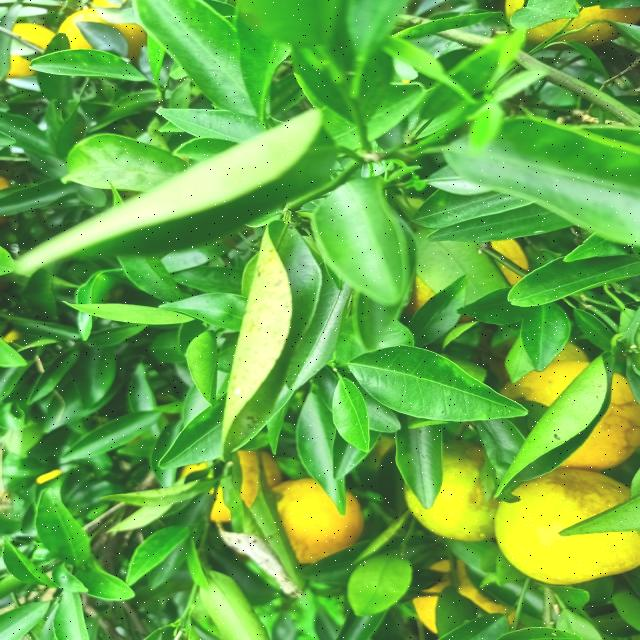healthy: (487, 137, 640, 222), (171, 2, 261, 108), (324, 199, 391, 283), (368, 354, 461, 409), (304, 414, 336, 481)
